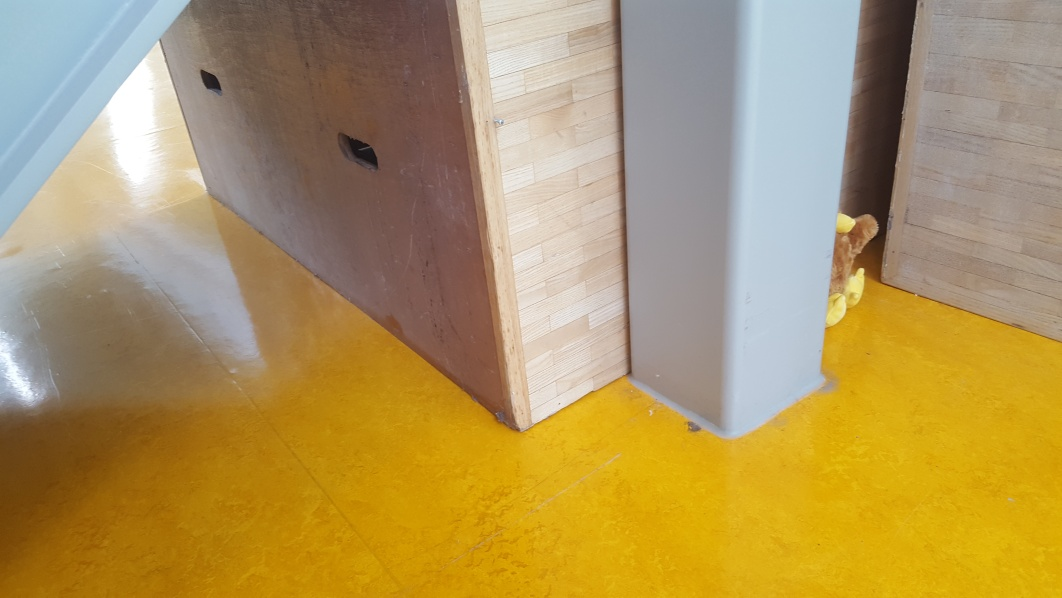chicken: (824, 194, 879, 329)
